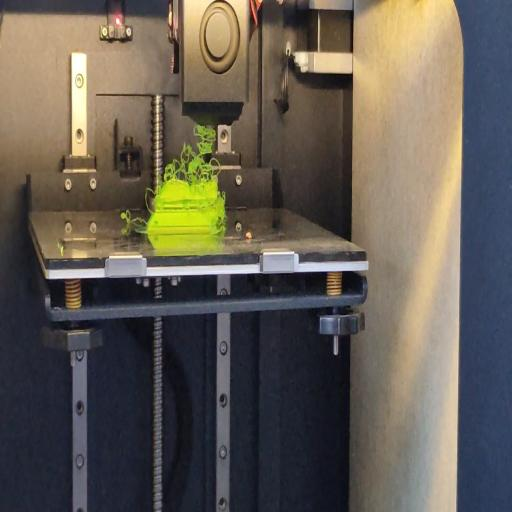spaghetti: (162, 124, 224, 178), (118, 210, 150, 228), (145, 184, 152, 212), (217, 223, 227, 238)
